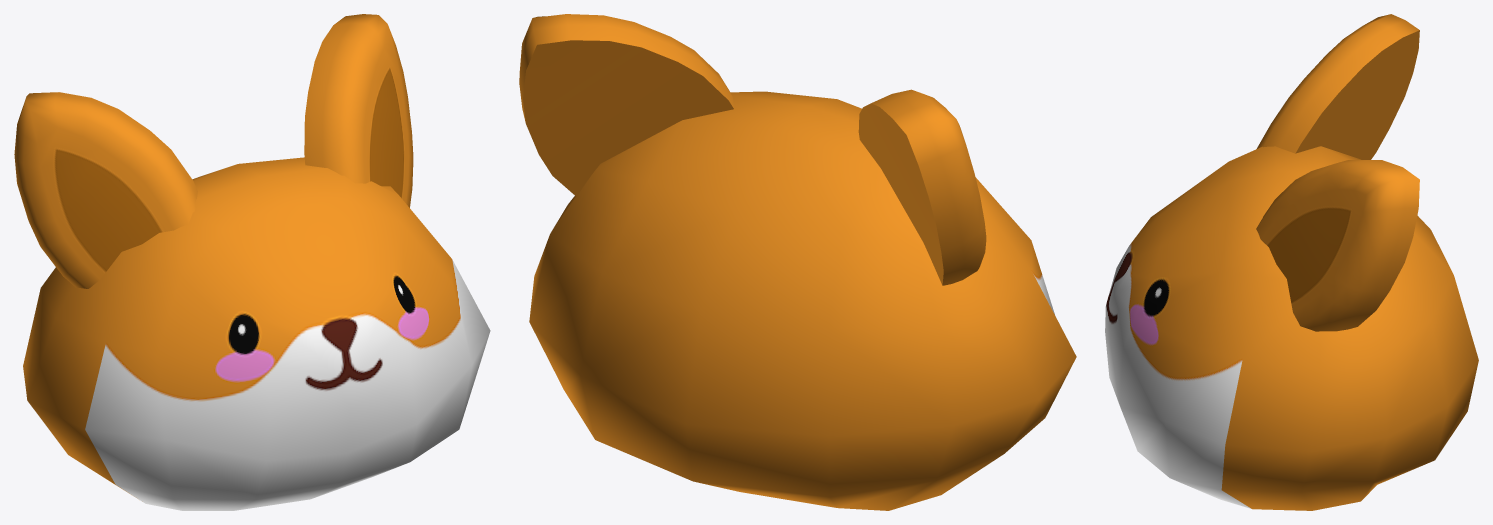
The model's file is Candy_FoxHead-B.FBX.
3 renders of one model, left to right at view 1: azimuth 30°, elevation 25°; view 2: azimuth 150°, elevation 25°; view 3: azimuth 270°, elevation 25°, orthographic. The views are drawn at different scales.
Parts seen in each view (by area): view 1: Candy_FoxHead-B; view 2: Candy_FoxHead-B; view 3: Candy_FoxHead-B.
Part boxes in pixels (x1,y1,x2,y2): Candy_FoxHead-B: [14, 14, 490, 510]; Candy_FoxHead-B: [519, 14, 1076, 510]; Candy_FoxHead-B: [1105, 14, 1478, 510].
Size of the model in its own units: 3116 by 2512 by 2411.
1 material, 1 textured.
